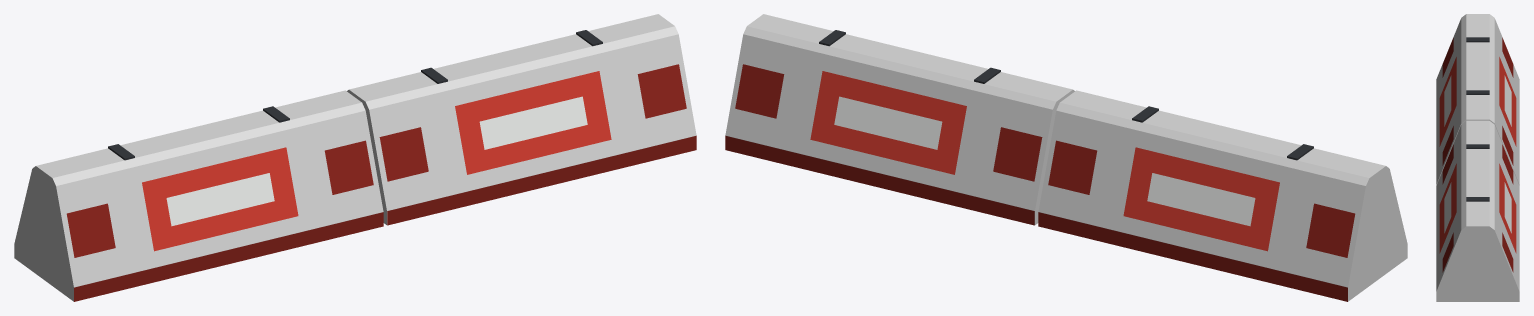
The model's file is tuff_block.glb.
The picture shows the model from 3 angles, left to right: view 1: azimuth 30°, elevation 25°; view 2: azimuth 150°, elevation 25°; view 3: azimuth 270°, elevation 25°; orthographic projection. The views are drawn at different scales.
Parts seen in each view (by area): view 1: tuff_block; view 2: tuff_block; view 3: tuff_block.
Part boxes in pixels (bbox=[...]): tuff_block: bbox=[14, 14, 696, 301]; tuff_block: bbox=[725, 14, 1407, 301]; tuff_block: bbox=[1436, 14, 1519, 301].
Bounding box in the file's own units: 3.62 × 0.61 × 0.604.
